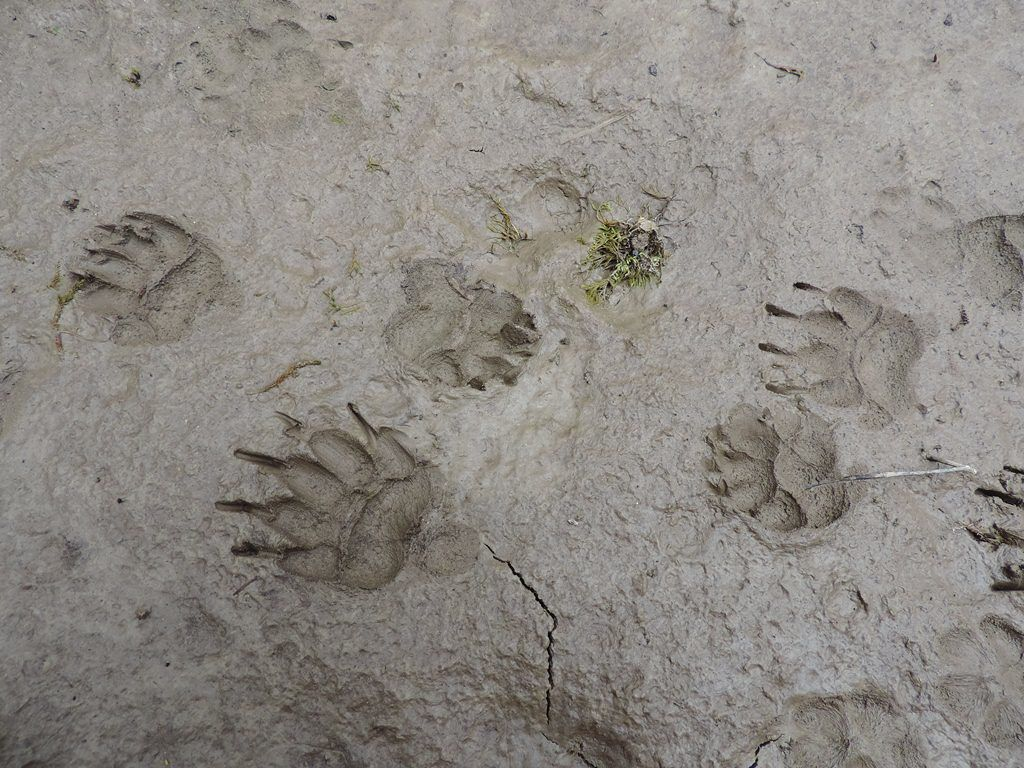beaver: (212, 401, 481, 597), (56, 209, 246, 352), (759, 273, 928, 426), (696, 398, 867, 537), (383, 247, 530, 402)
